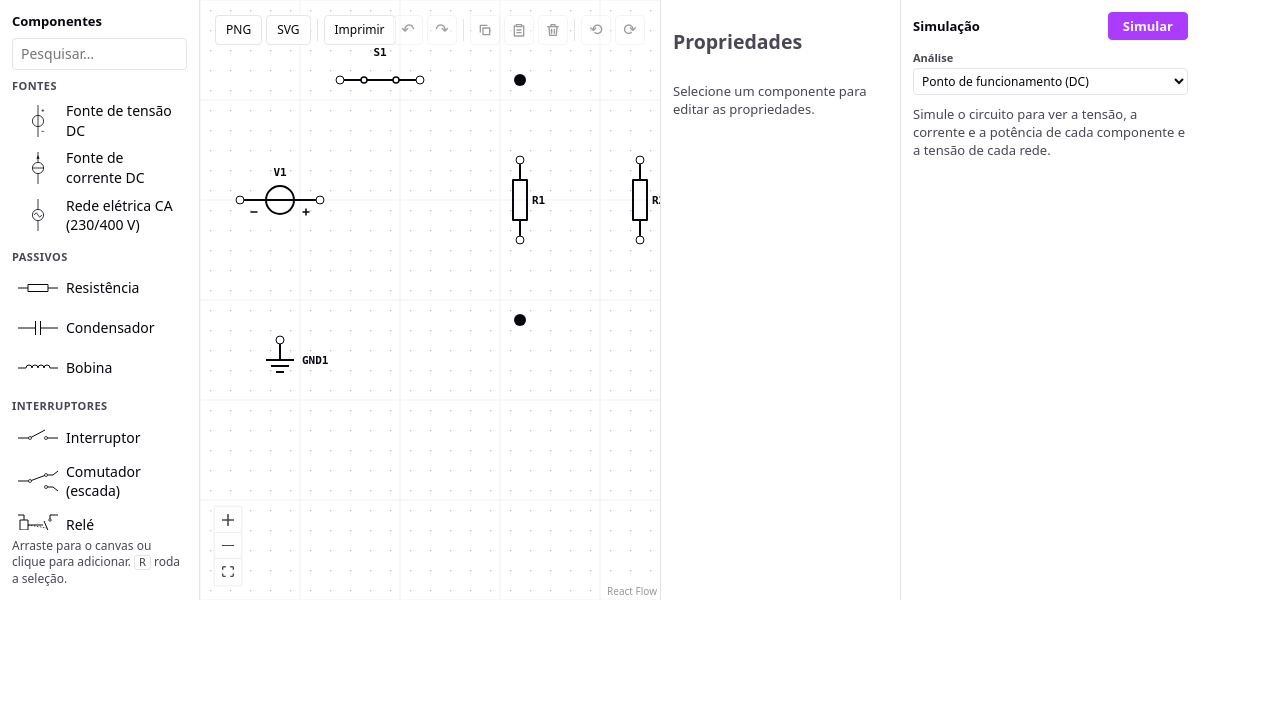
Test: SimulationPanel › falha de rede mostra a mensagem do cliente
Click the button "Simular" at point(1148, 26), box x1=1108 y1=12 x2=1188 y2=40
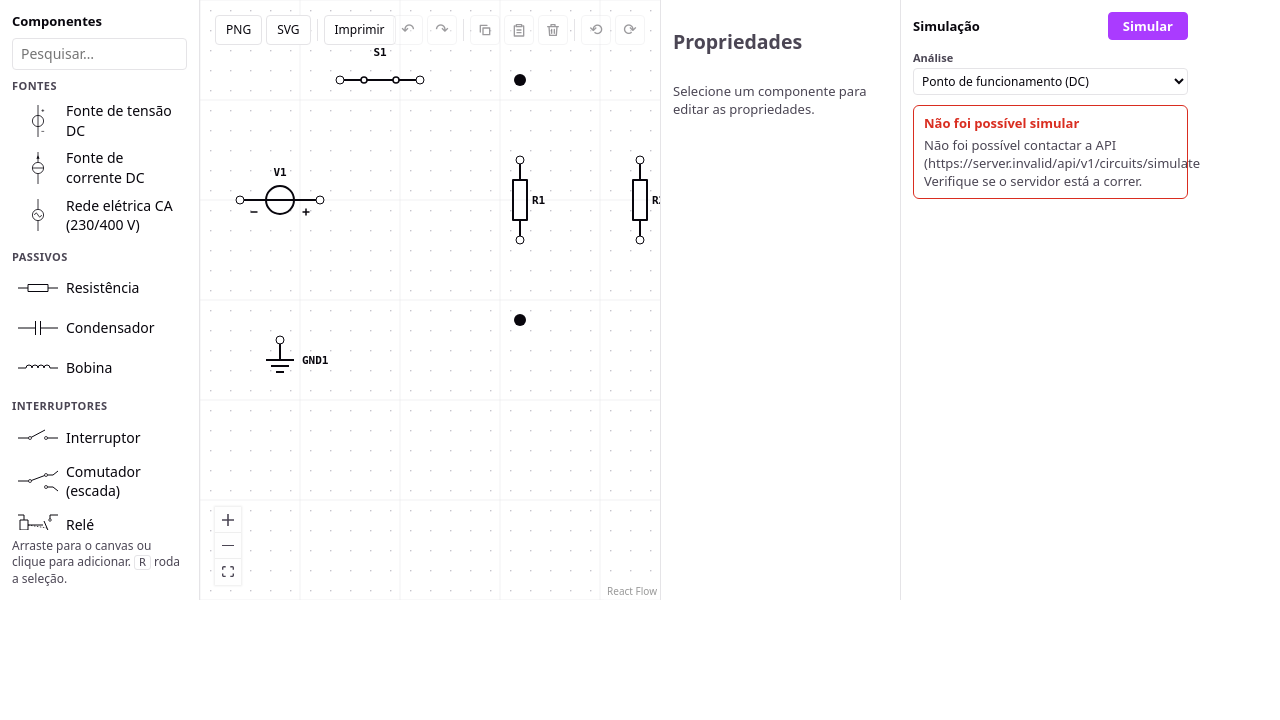
Expected: the message shows "Não foi possível simular", x1=924 y1=114 x2=1079 y2=132
Expected: the message shows "Não foi possível contactar a API", x1=924 y1=136 x2=1200 y2=190
